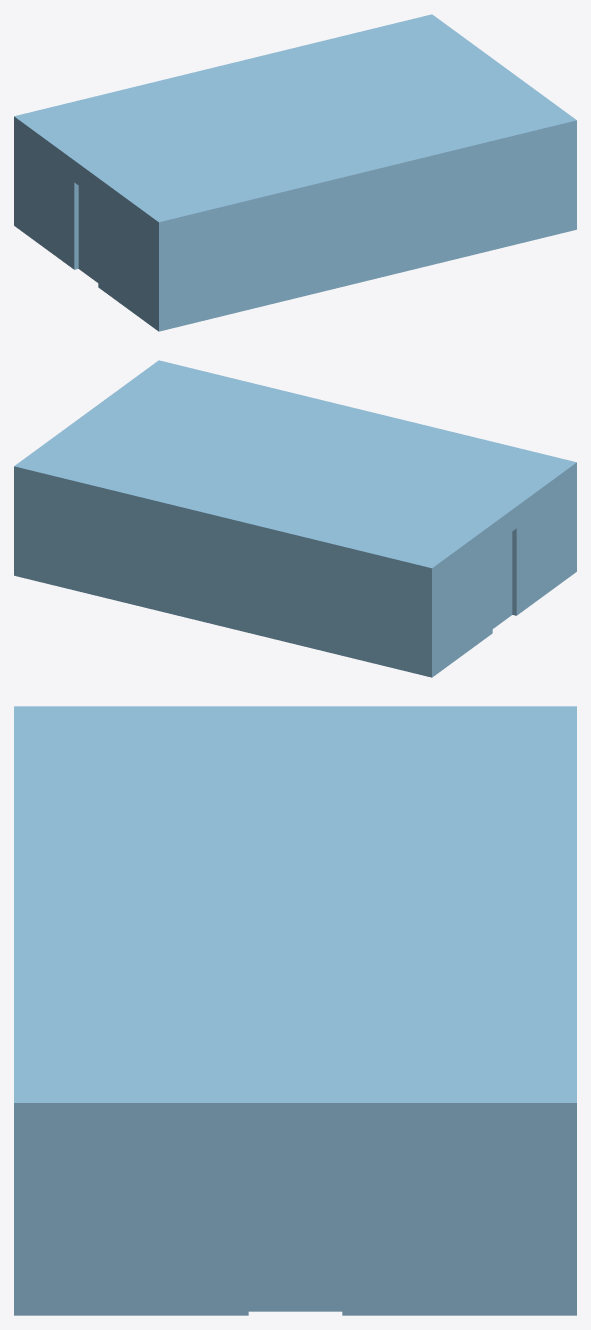
File: 10x6_inner.dae
The picture shows the model from 3 angles, top to bottom: view 1: azimuth 30°, elevation 25°; view 2: azimuth 150°, elevation 25°; view 3: azimuth 270°, elevation 25°; orthographic projection. The views are drawn at different scales.
Visible parts, largest first — view 1: 5c10c2bc109dab189039b41c; view 2: 5c10c2bc109dab189039b41c; view 3: 5c10c2bc109dab189039b41c.
Boxes of the visible parts, x1,y1,x2,y2 form: 5c10c2bc109dab189039b41c: (14, 14, 576, 331); 5c10c2bc109dab189039b41c: (14, 360, 576, 677); 5c10c2bc109dab189039b41c: (14, 706, 576, 1315).
Bounding box in the file's own units: 10 × 6 × 2.5.
